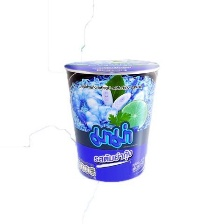paper_cup: (56, 54, 163, 186)
